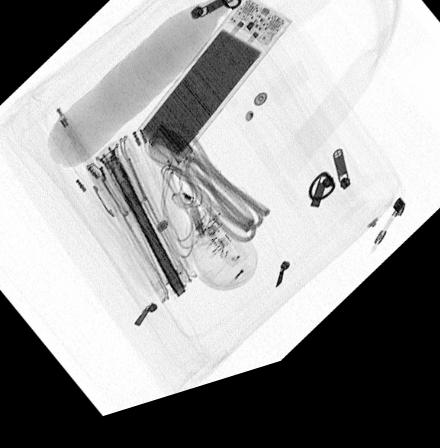Powerbank: (129, 10, 293, 183)
